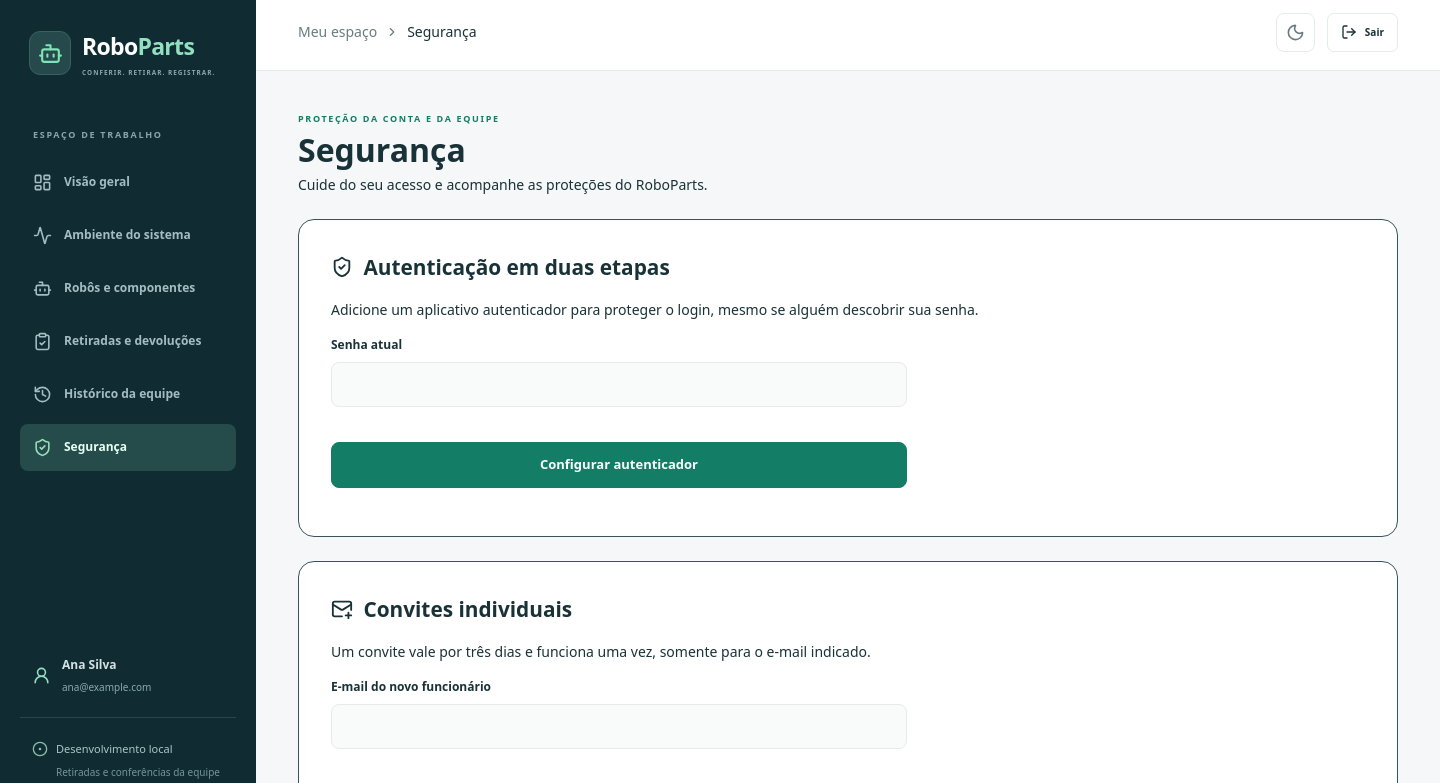
Test: Autenticador e gerenciamento de segurança › mostra convites individuais e bloqueio de funcionários somente ao responsável
Type "new@example.com" into the field labelled "E-mail do novo funcionário" at (619,726), box 331,704 -> 907,749
(page scrolled)
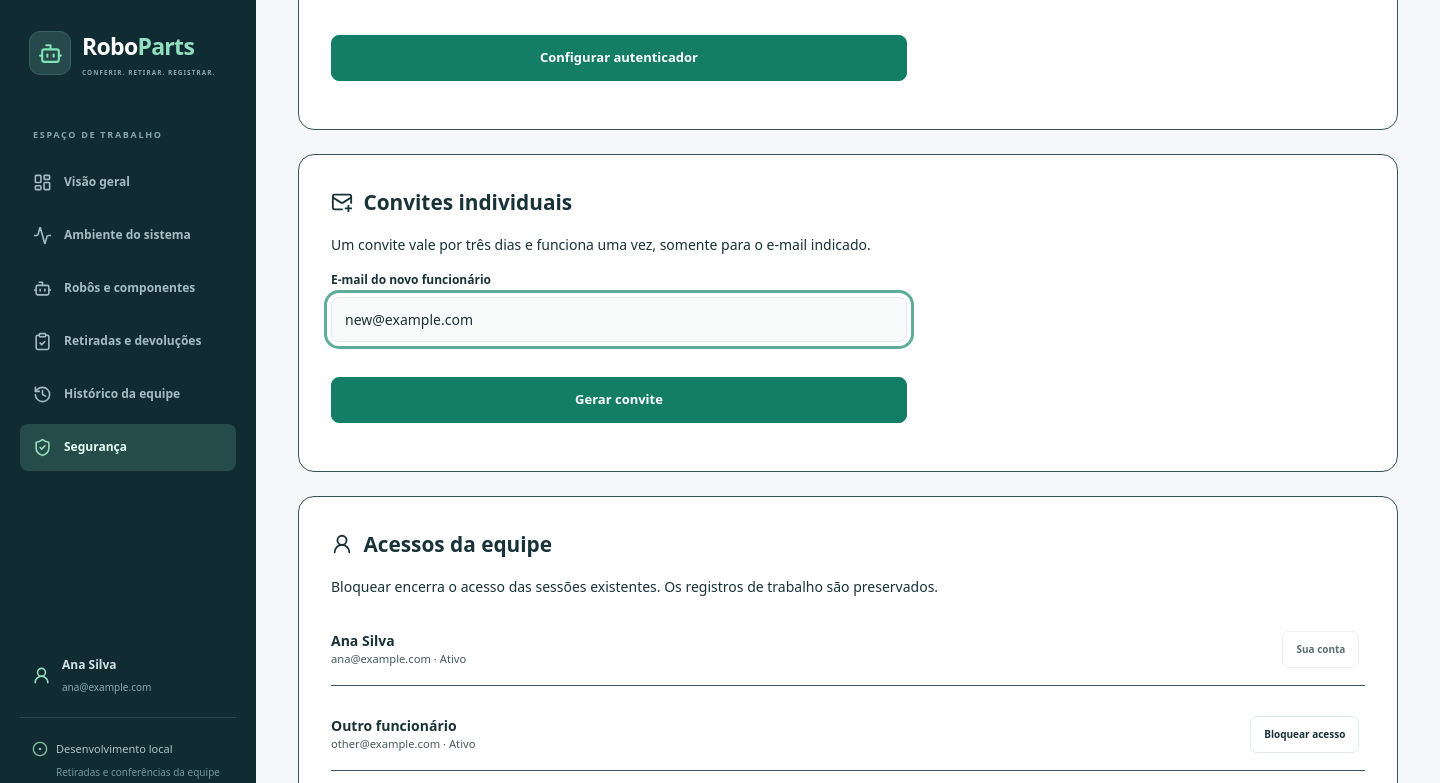
Click the button "Gerar convite" at (619,400), box 331,377 -> 907,423
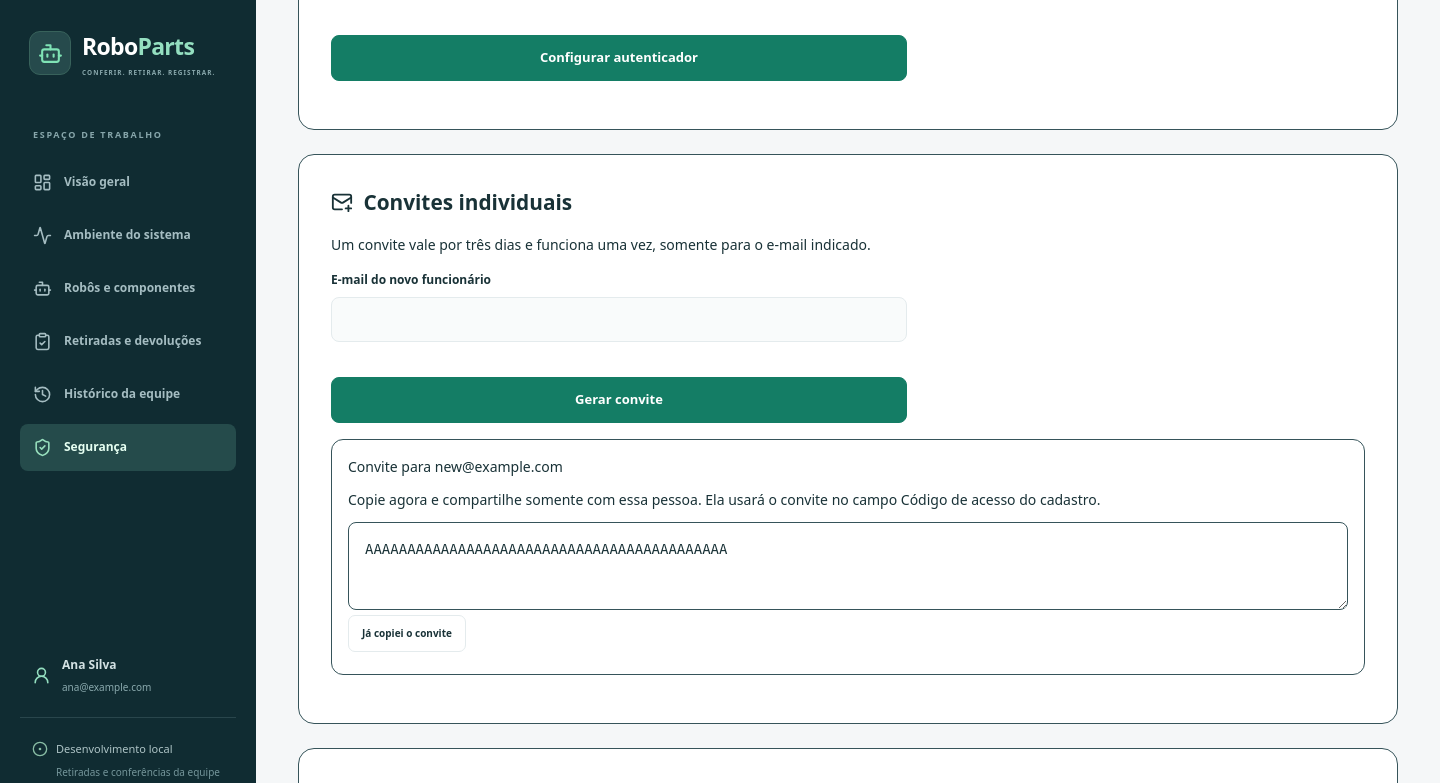
Click the button "Já copiei o convite" at (407,634), box 348,616 -> 466,652
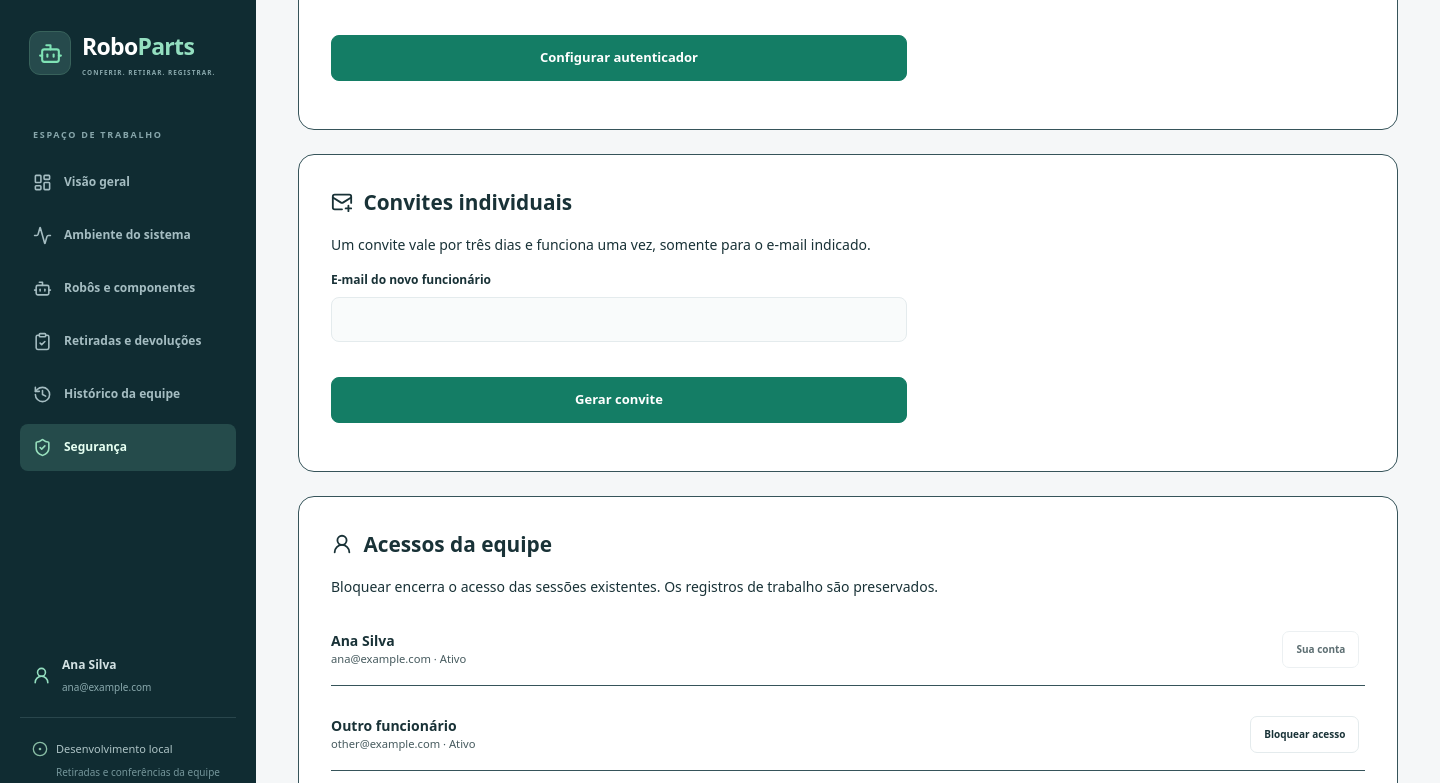
Click the button "Bloquear acesso" at (1305,734), box 1250,716 -> 1359,753
(page scrolled)
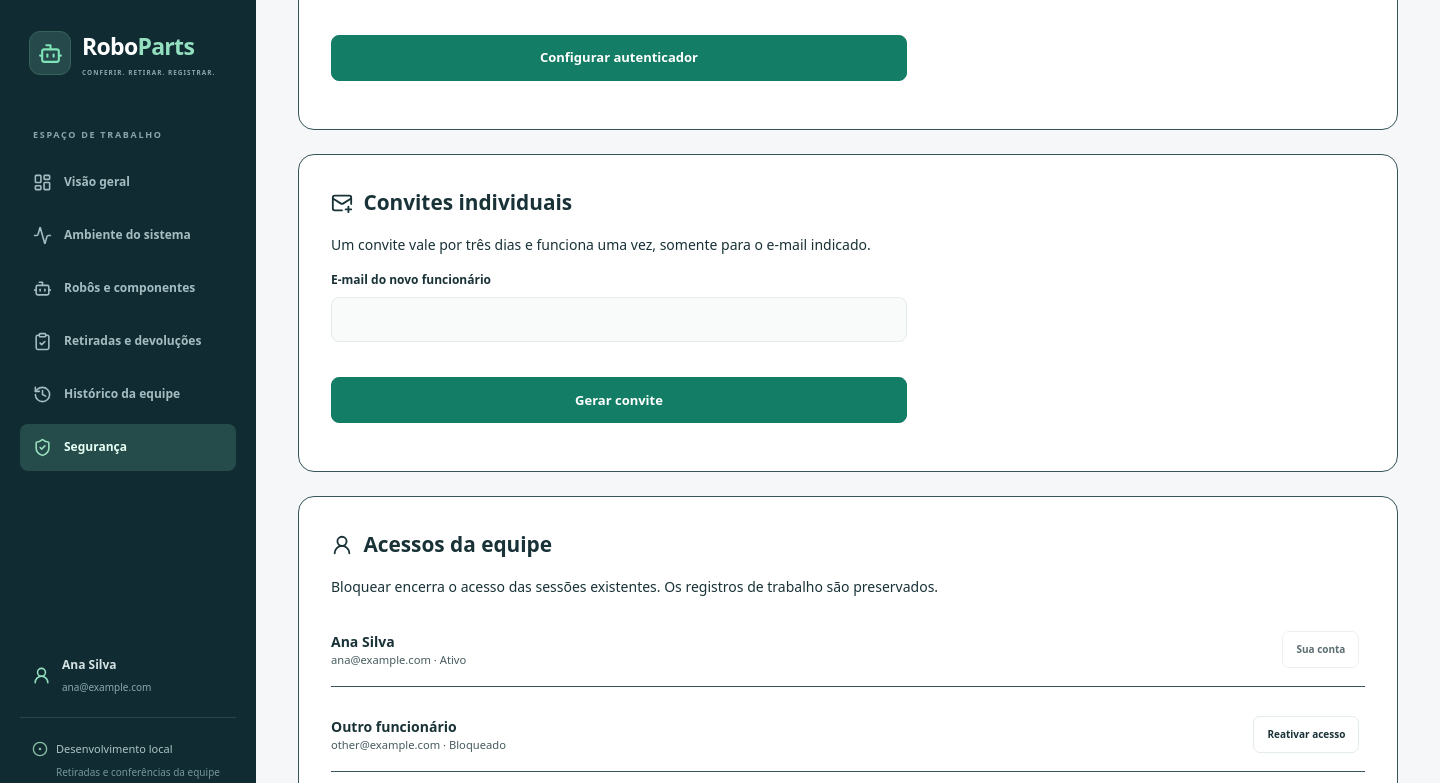
Result: the button "Reativar acesso" is shown at 1253,716 -> 1359,753
